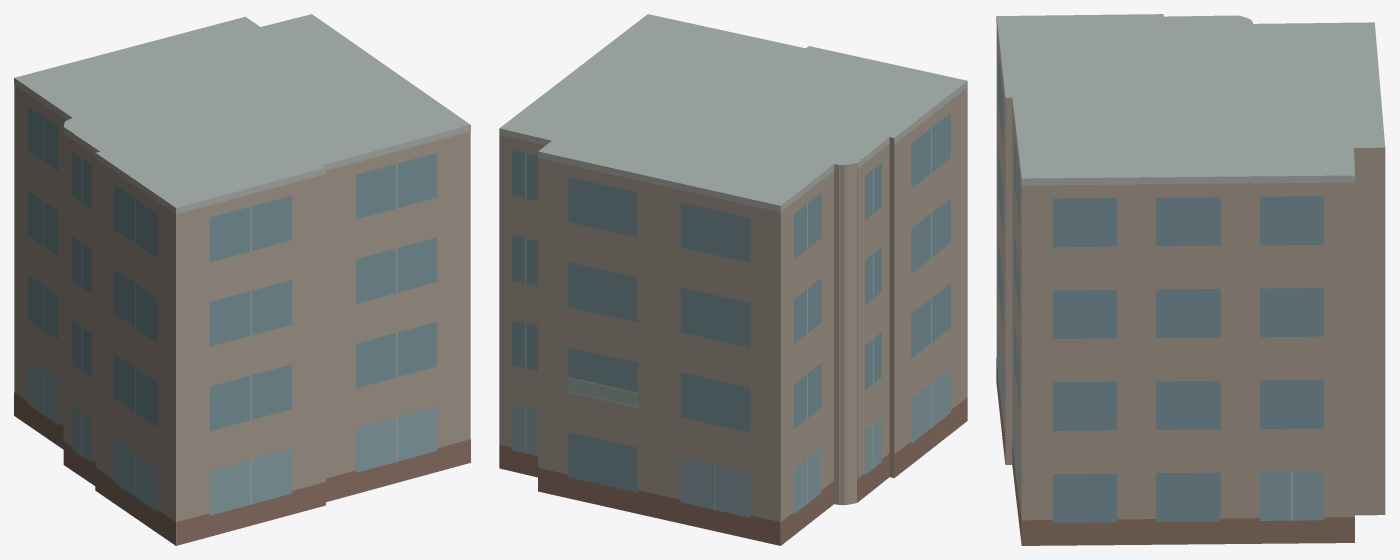
Rendered from survey-upis-32662679.glb.
3 renders of one model, left to right at view 1: azimuth 30°, elevation 25°; view 2: azimuth 150°, elevation 25°; view 3: azimuth 270°, elevation 25°, orthographic. The views are drawn at different scales.
Visible parts, largest first — view 1: survey-upis-32662679.tmp; view 2: survey-upis-32662679.tmp; view 3: survey-upis-32662679.tmp.
Boxes of the visible parts, x1,y1,x2,y2 form: survey-upis-32662679.tmp: (14,14,470,545); survey-upis-32662679.tmp: (499,14,967,545); survey-upis-32662679.tmp: (996,14,1385,545).
Size of the model in its own units: 12.3 by 12.8 by 12.28.
